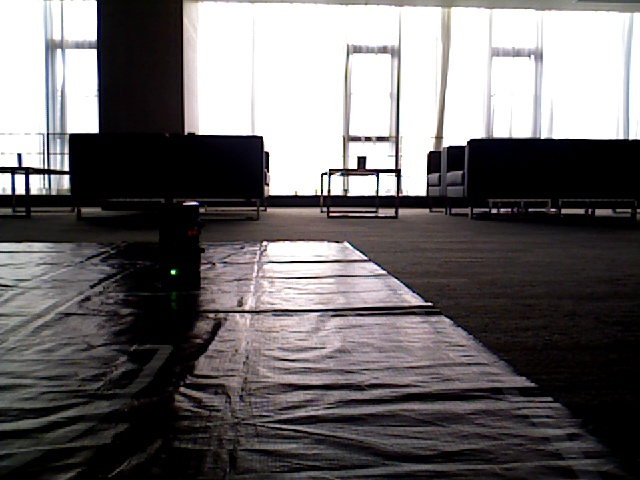green: (163, 210, 190, 289)
